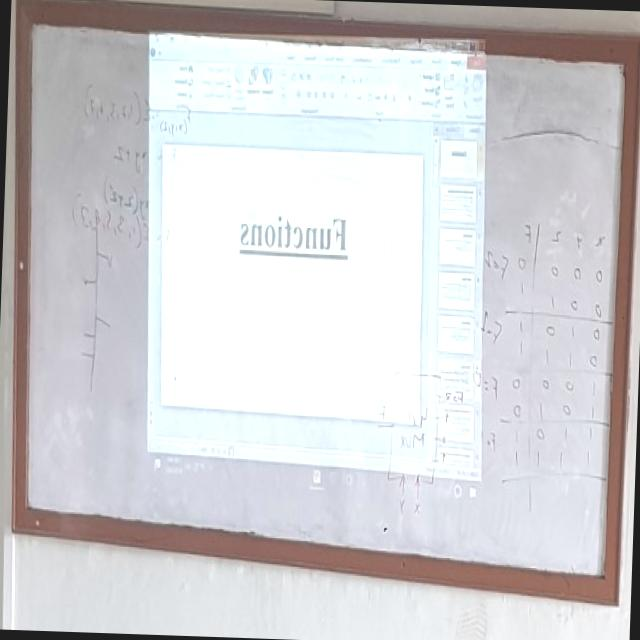Slide: (142, 31, 484, 508)
White-board: (13, 3, 639, 588)
